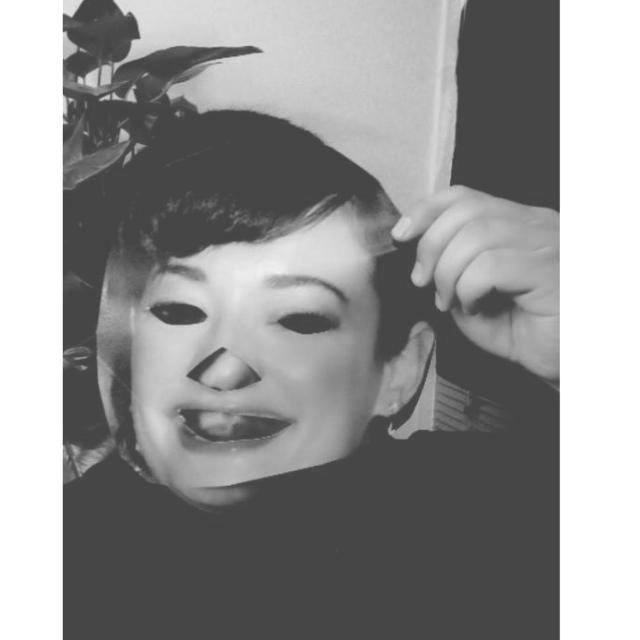fake: (89, 141, 442, 490)
